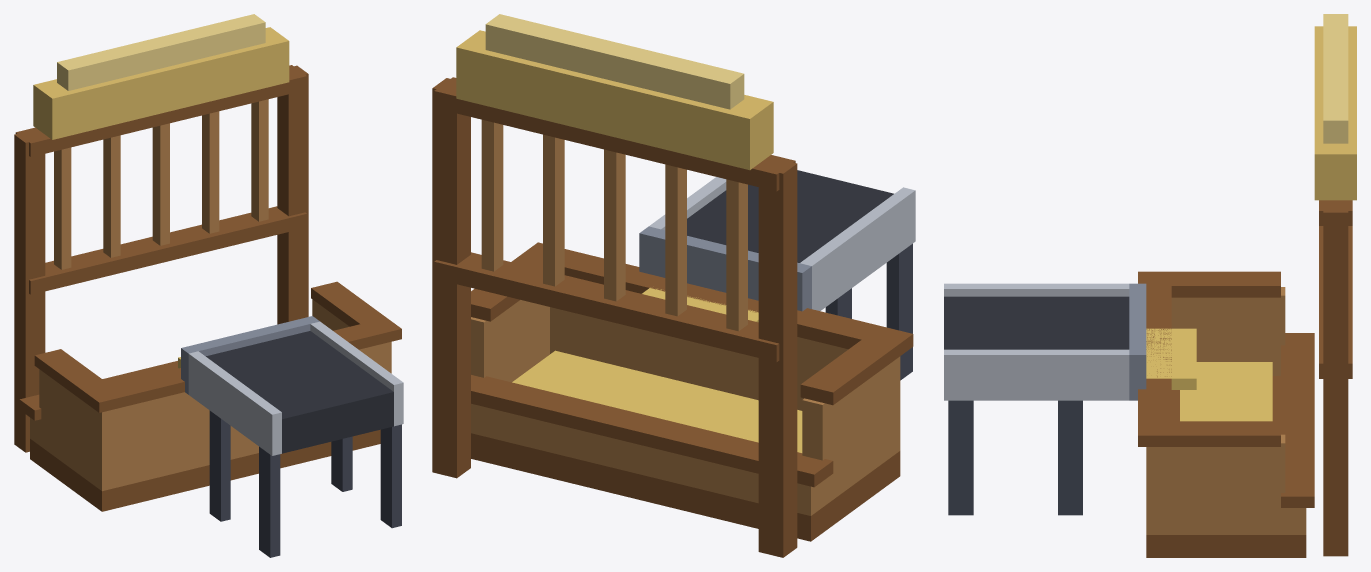
Rendered from feeder.glb.
3 views of the same model, side by side, from view 1: azimuth 30°, elevation 25°; view 2: azimuth 150°, elevation 25°; view 3: azimuth 270°, elevation 25° (orthographic). The views are drawn at different scales.
Parts seen in each view (by area): view 1: feeder; view 2: feeder; view 3: feeder.
Boxes of the visible parts, left/top/right/bottom form: feeder: left=14, top=14, right=403, bottom=557; feeder: left=432, top=14, right=915, bottom=557; feeder: left=944, top=14, right=1356, bottom=557.
Size of the model in its own units: 0.92 by 1.08 by 0.98.
Materials: 1 (1 with a texture image).
